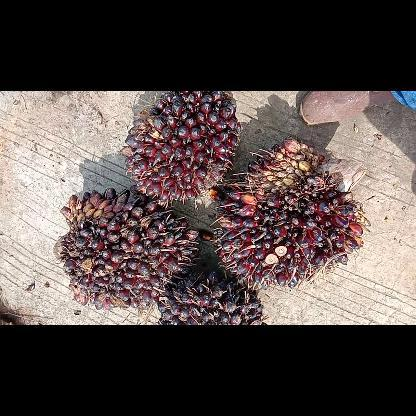TBS mentah: (209, 134, 369, 290), (50, 184, 196, 310), (119, 90, 243, 208), (155, 264, 266, 324)
